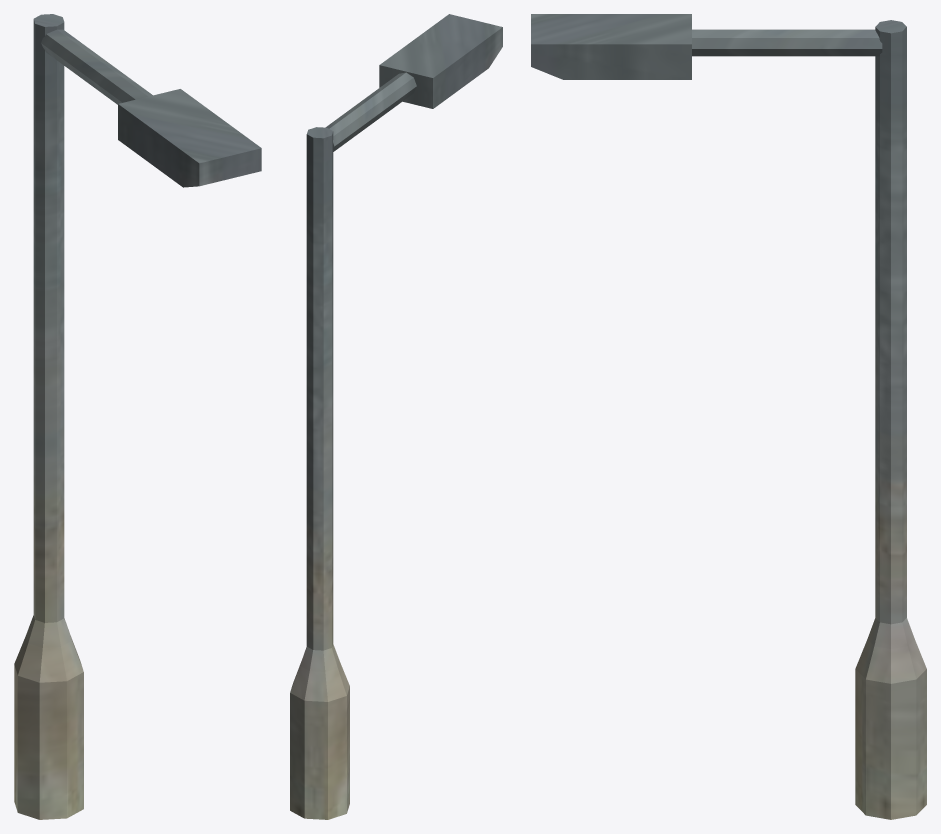
The model's file is Streetlight.fbx.
The picture shows the model from 3 angles, left to right: view 1: azimuth 30°, elevation 25°; view 2: azimuth 150°, elevation 25°; view 3: azimuth 270°, elevation 25°; orthographic projection. The views are drawn at different scales.
Parts seen in each view (by area): view 1: Cylinder; view 2: Cylinder; view 3: Cylinder.
Boxes of the visible parts, x1,y1,x2,y2 form: Cylinder: (14, 14, 261, 819); Cylinder: (290, 14, 502, 819); Cylinder: (531, 14, 926, 819).
Bounding box in the file's own units: 200 × 2402 × 1107.
